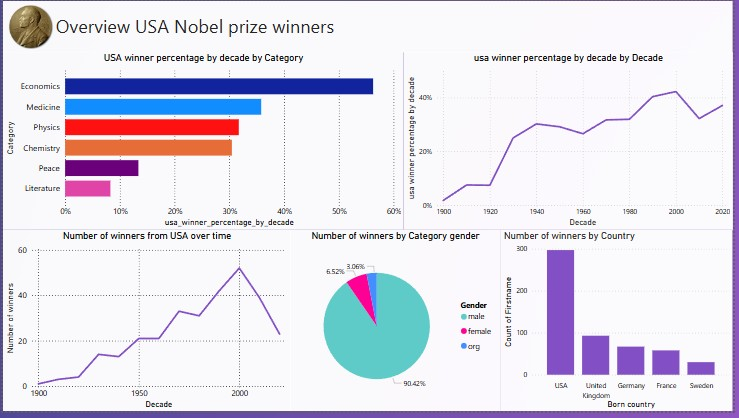

The dashboard page shown, as its layout file describes it:
{"tool":"powerbi","page":{"name":"USA Overview","canvas":[1280,720],"ordinal":0},"visuals":[{"type":"lineChart","title":"Number of winners from USA over time","fields":{"Category":["nobel-prize-laureates.Decade"],"Y":["CountNonNull(nobel-prize-laureates.Firstname)"]},"box":[0,401.9,505.1,317.9],"z":1000},{"type":"clusteredBarChart","title":"USA winner percentage by decade by Category","fields":{"Category":["nobel-prize-laureates.Category"],"Y":["_Measures.usa_winner_percentage_by_decade"]},"box":[0,90,703.3,311.7],"z":2000},{"type":"pieChart","title":"Number of winners by Category gender","fields":{"Category":["nobel-prize-laureates.Gender"],"Y":["CountNonNull(nobel-prize-laureates.Firstname)"]},"box":[503.7,401.9,370.2,317.9],"z":3000},{"type":"textbox","box":[0,0,1280,90],"z":3500},{"type":"lineChart","fields":{"Category":["nobel-prize-laureates.Decade"],"Y":["_Measures.usa_winner_percentage"]},"box":[703.3,90,576.7,311.7],"z":4000},{"type":"clusteredColumnChart","title":"Number of winners by Country","fields":{"Category":["nobel-prize-laureates.Born country"],"Y":["CountNonNull(nobel-prize-laureates.Firstname)"]},"box":[874,401.9,406,317.9],"z":5000},{"type":"image","box":[0,0,95.7,90],"z":7000}]}

Visuals, with their boxes in screenshot pixels (x1, y1, x2, y2), scaled from the page's 1280x720 canvas onto the 739x418 screenshot:
"Number of winners from USA over time" lineChart: (x1=0, y1=233, x2=292, y2=417)
"USA winner percentage by decade by Category" clusteredBarChart: (x1=0, y1=52, x2=406, y2=233)
"Number of winners by Category gender" pieChart: (x1=291, y1=233, x2=505, y2=417)
textbox: (x1=0, y1=0, x2=738, y2=52)
lineChart - nobel-prize-laureates.Decade x _Measures.usa_winner_percentage: (x1=406, y1=52, x2=738, y2=233)
"Number of winners by Country" clusteredColumnChart: (x1=505, y1=233, x2=738, y2=417)
image: (x1=0, y1=0, x2=55, y2=52)
